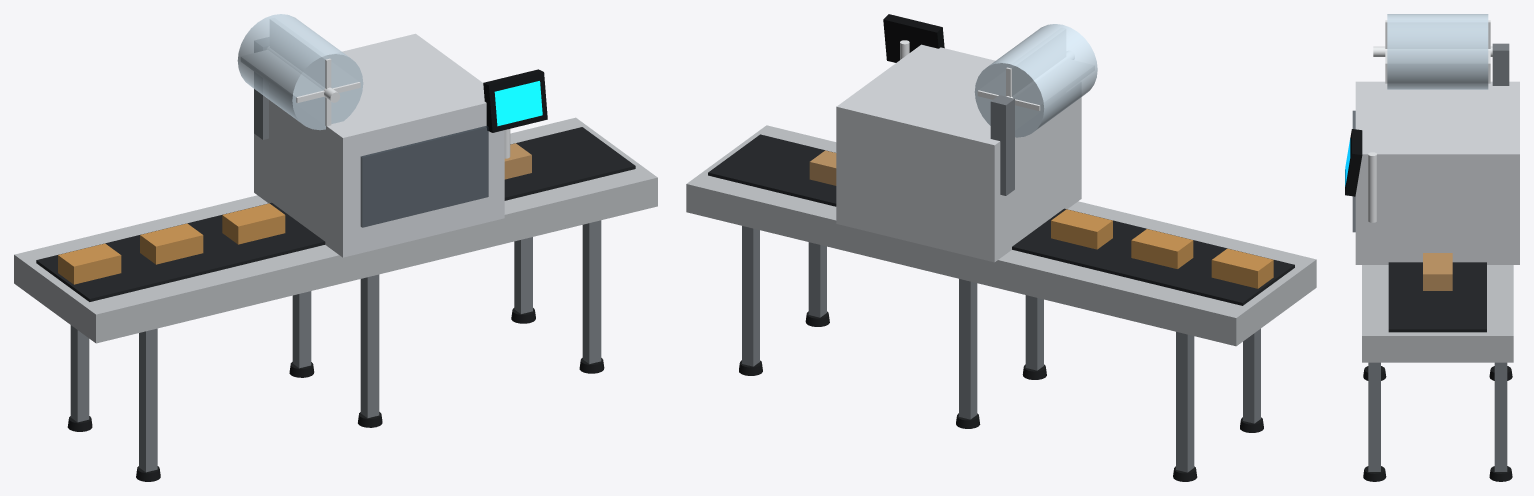
File: packer.glb
3 renders of one model, left to right at view 1: azimuth 30°, elevation 25°; view 2: azimuth 150°, elevation 25°; view 3: azimuth 270°, elevation 25°, orthographic. The views are drawn at different scales.
Parts seen in each view (by area): view 1: SimReady_FlowPack_Packer, anim_roll, anim_belt_items; view 2: SimReady_FlowPack_Packer, anim_roll, anim_belt_items; view 3: SimReady_FlowPack_Packer, anim_roll, anim_belt_items.
Boxes of the visible parts, x1,y1,x2,y2 form: SimReady_FlowPack_Packer: (14, 33, 657, 481); anim_roll: (237, 14, 363, 130); anim_belt_items: (58, 143, 531, 284); SimReady_FlowPack_Packer: (686, 14, 1316, 481); anim_roll: (974, 24, 1097, 137); anim_belt_items: (809, 150, 1273, 288); SimReady_FlowPack_Packer: (1345, 43, 1519, 481); anim_roll: (1385, 14, 1490, 89); anim_belt_items: (1423, 253, 1452, 290).
Size of the model in its own units: 2.85 by 1.8 by 0.8312.
